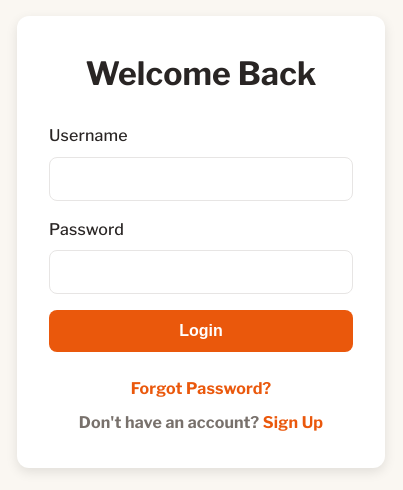
Test: Login Page › should disable submit button while loading
Type "testuser" into the field labelled "Username". click: (201, 179)
box: [49,157,353,201]
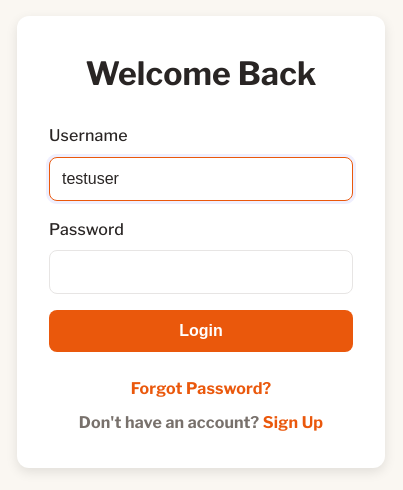
Type "password" into the password field labelled "Password". click: (201, 272)
box: [49,250,353,294]
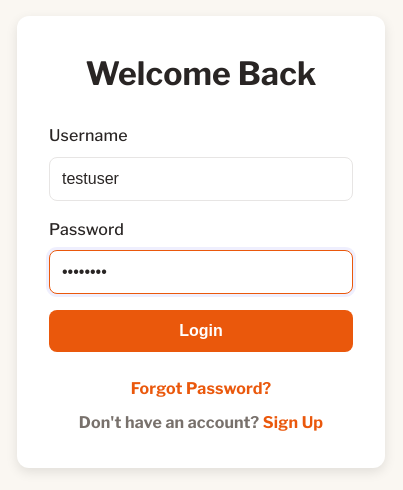
Click the button "Login". click: (201, 331)
box: [49,310,353,352]
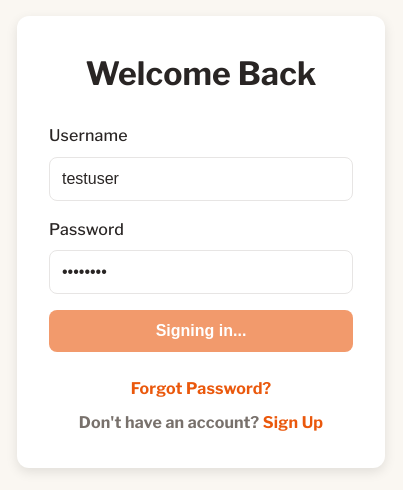
expect the button is disabled: met, box [49,310,353,352]
